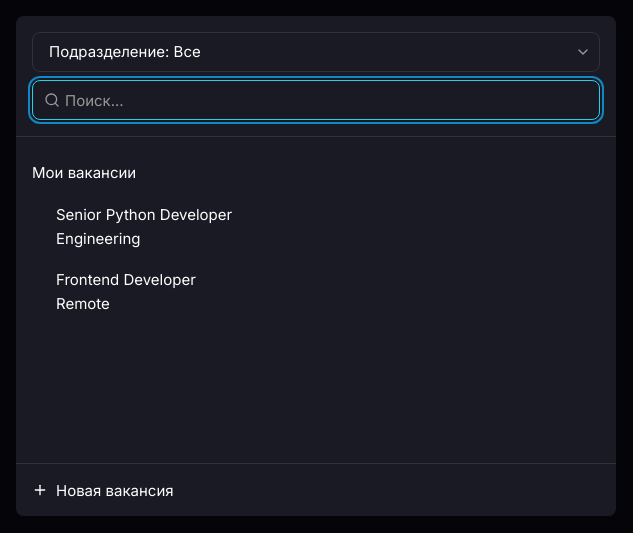
Test case: AddToVacancyModal › Search Functionality › should filter vacancies when searching (client-side)
The width and height of the screenshot is (633, 533).
Expected: the text "Senior Python Developer" is shown, [56,202,232,226]
Expected: the text "Frontend Developer" is shown, [56,268,196,292]
In the field with placeholder "Поиск...": (316, 100) [32,80,600,120], type "Python"
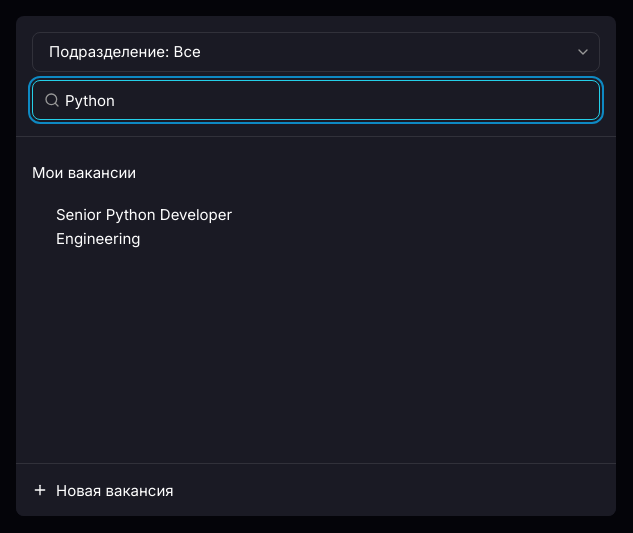
Expected: the text "Senior Python Developer" is shown, [56,202,232,226]
Expected: the button "Frontend Developer" is gone
